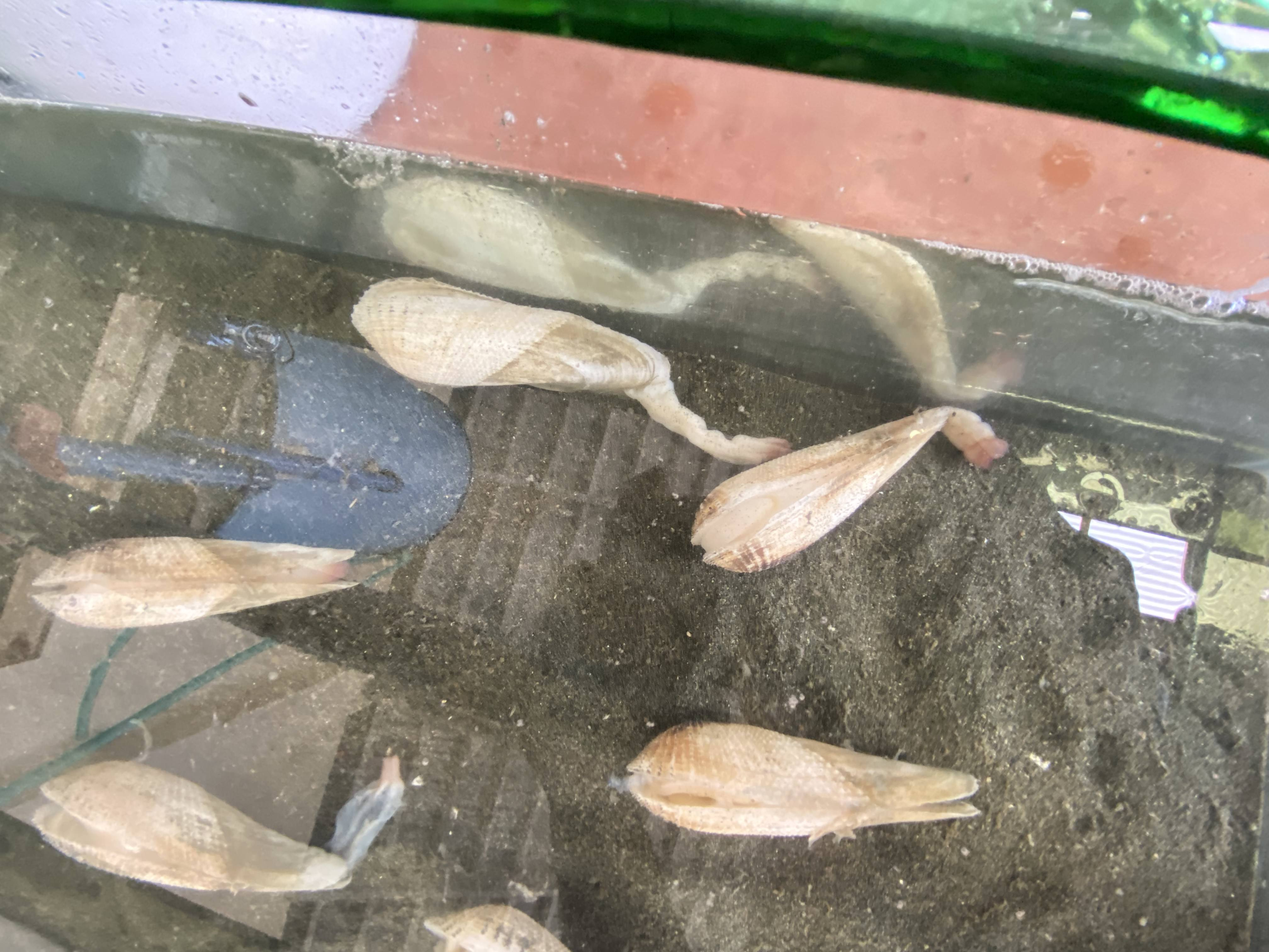At risk: (353, 278, 1007, 572), (32, 756, 404, 892), (621, 722, 978, 842), (31, 537, 362, 628)
